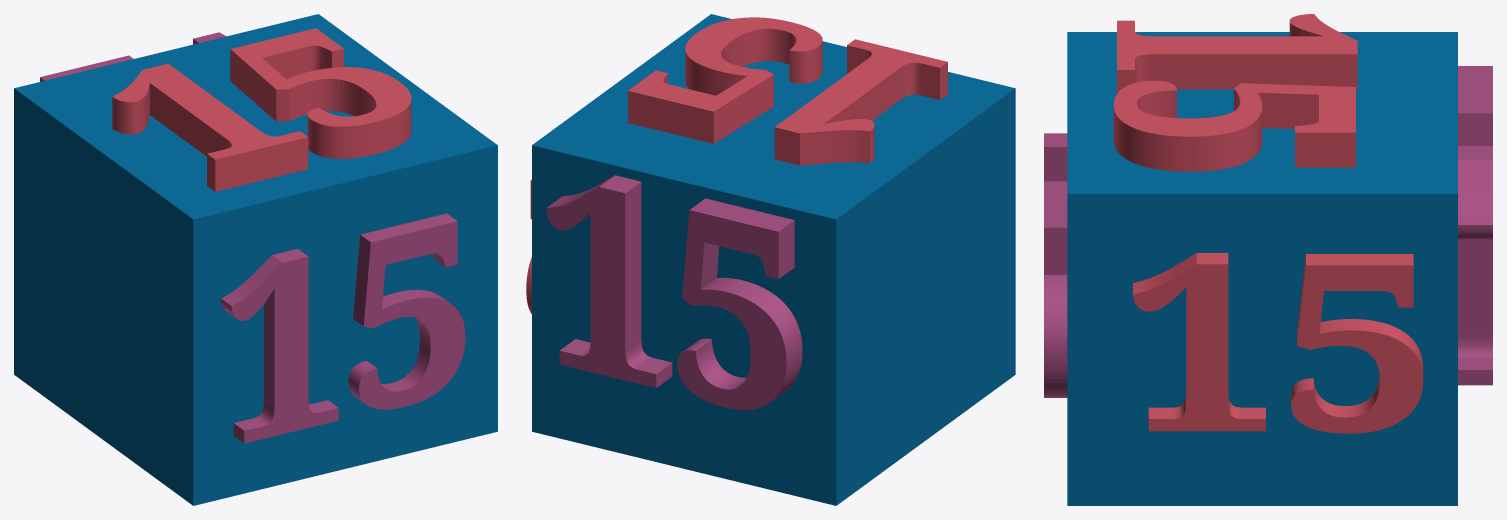
The model's file is number15.glb.
3 renders of one model, left to right at view 1: azimuth 30°, elevation 25°; view 2: azimuth 150°, elevation 25°; view 3: azimuth 270°, elevation 25°, orthographic. The views are drawn at different scales.
Visible parts, largest first — view 1: Mesh_Mesh_head_geo.001_lambert2SG.001; view 2: Mesh_Mesh_head_geo.001_lambert2SG.001; view 3: Mesh_Mesh_head_geo.001_lambert2SG.001.
Boxes of the visible parts, x1,y1,x2,y2 form: Mesh_Mesh_head_geo.001_lambert2SG.001: (14, 14, 497, 505); Mesh_Mesh_head_geo.001_lambert2SG.001: (526, 14, 1015, 505); Mesh_Mesh_head_geo.001_lambert2SG.001: (1044, 14, 1492, 505).
Bounding box in the file's own units: 0.106 × 0.099 × 0.116.
